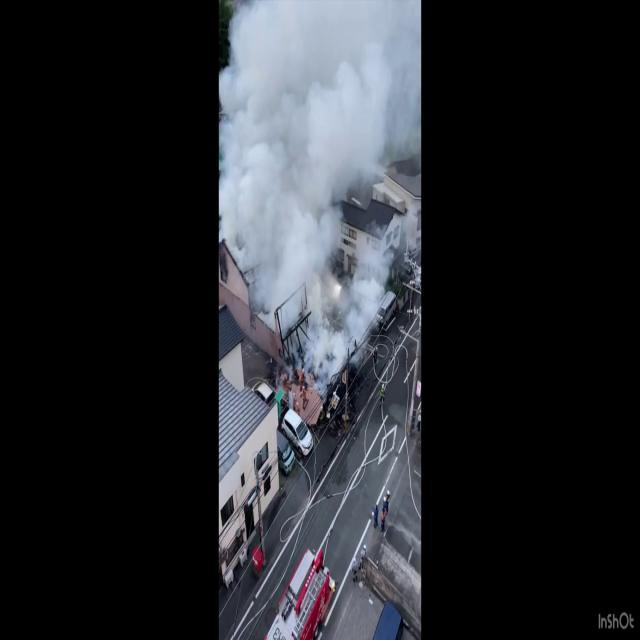Smoke: (218, 1, 422, 354)
